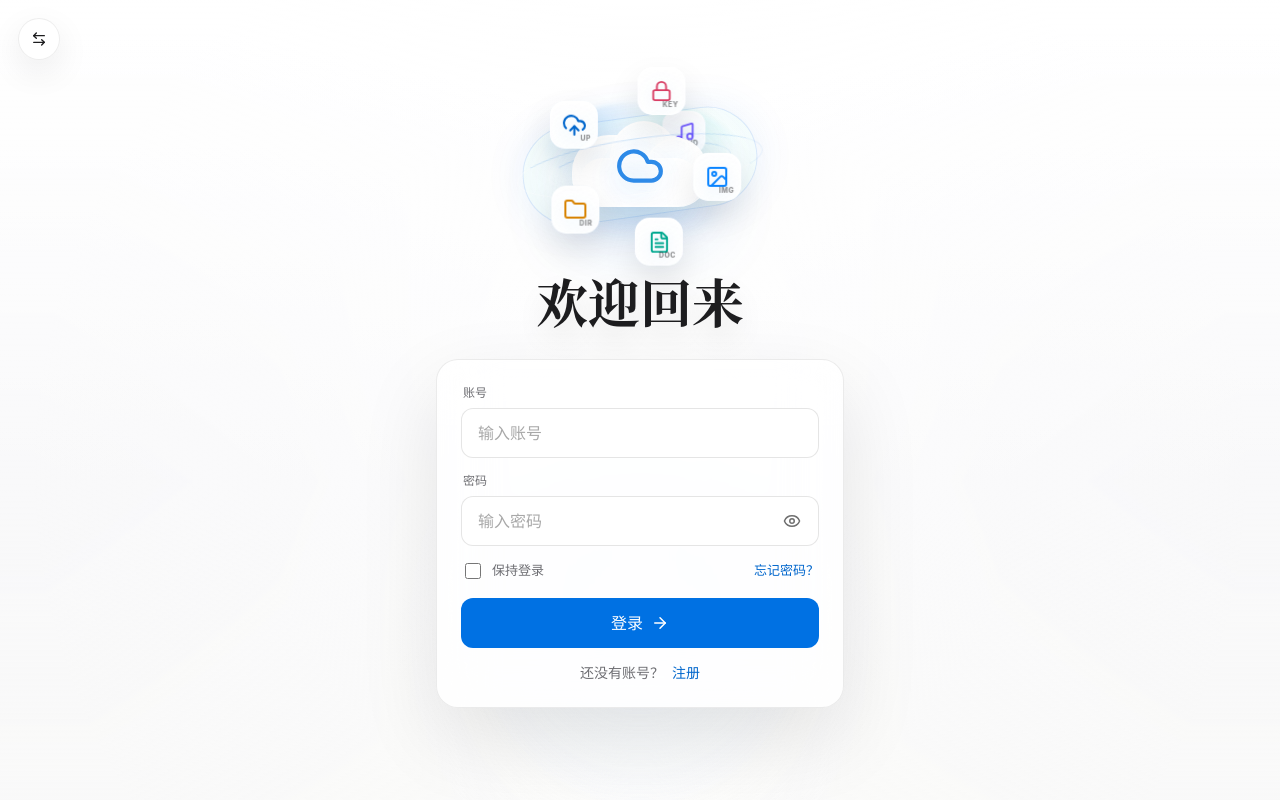
Scenario: LoginPage › switches to the legacy personal space login page
What coordinates should you click on to do the following:
click the button named "切换旧登录页面"
I would click on:
 (39, 39)
Its box is x1=18 y1=18 x2=60 y2=60.
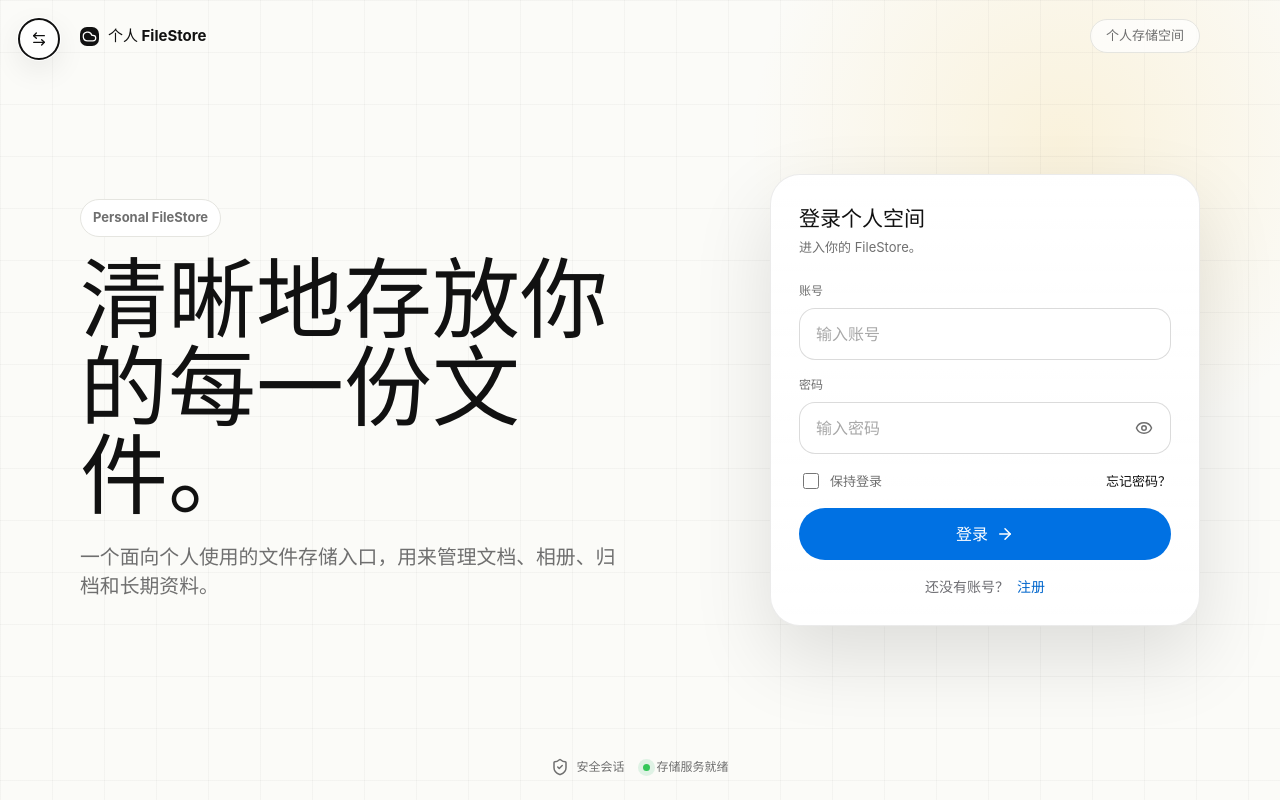
Check: the text "登录个人空间" is shown, box x1=799 y1=203 x2=925 y2=234
Check: the button named "切换新登录页面" is shown, box x1=18 y1=18 x2=60 y2=60
